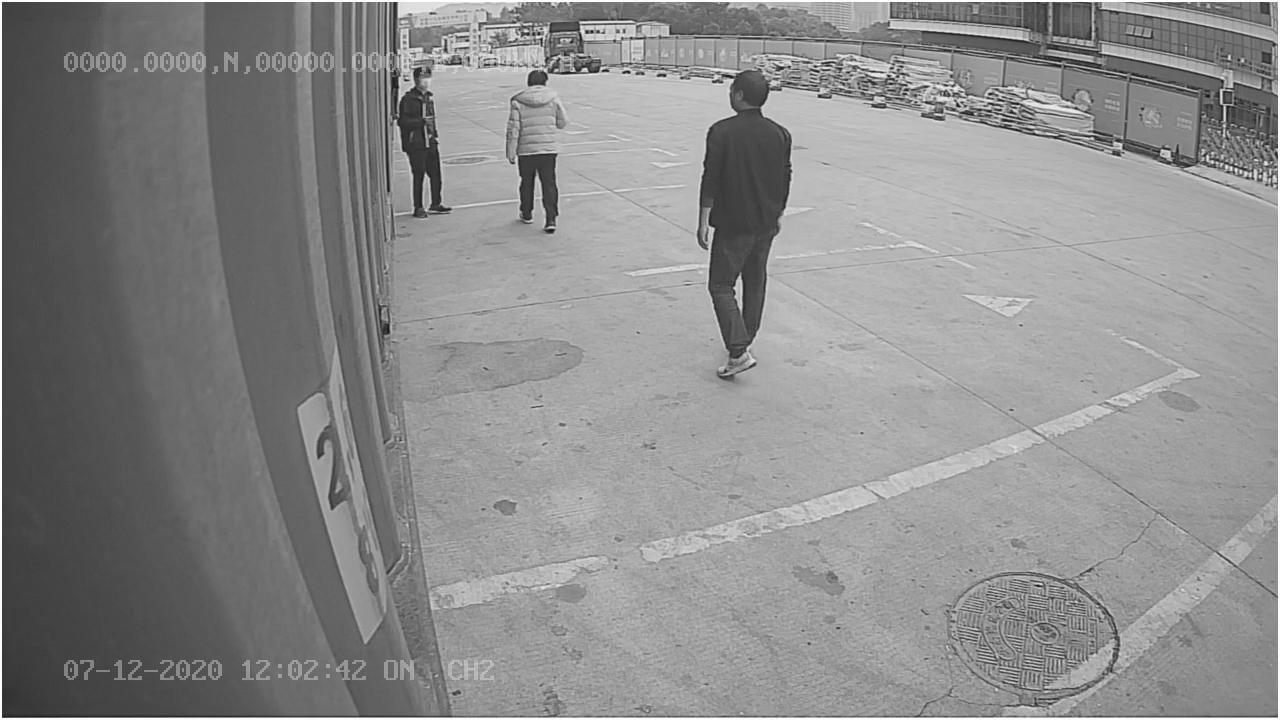person: (688, 66, 808, 383)
